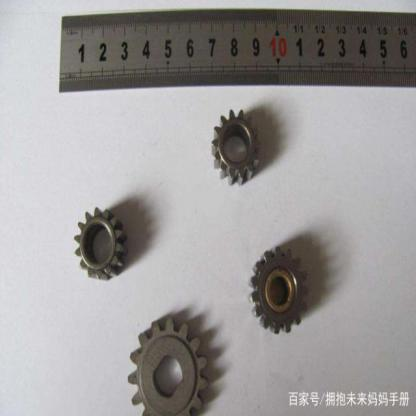FOD: (126, 313, 210, 415), (245, 245, 311, 337), (209, 108, 263, 188), (73, 204, 125, 286)
